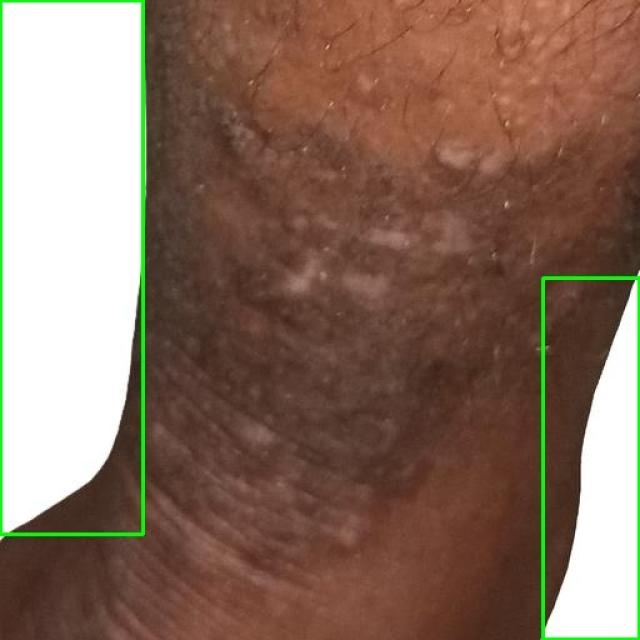Eczema: (0, 0, 144, 535), (542, 278, 639, 639)
